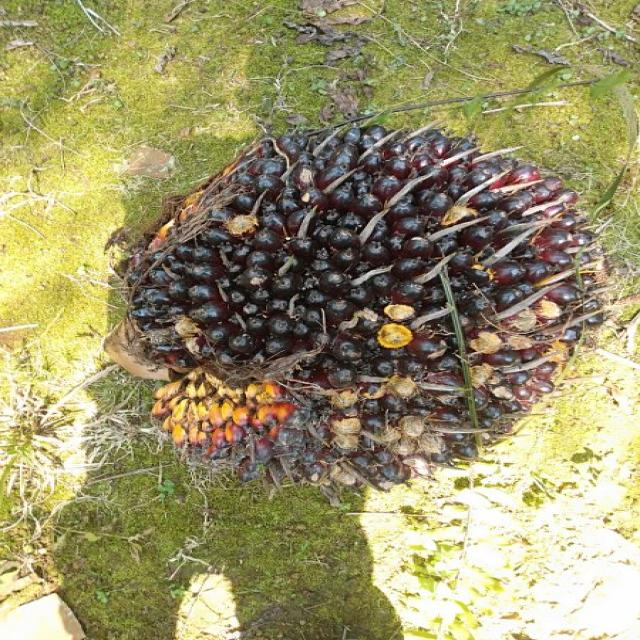fraksi 00: (103, 109, 613, 506)
